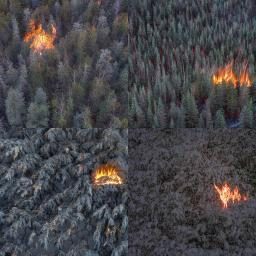Small fire: (21, 23, 66, 57), (210, 60, 254, 92), (90, 161, 128, 195), (214, 178, 246, 212)
